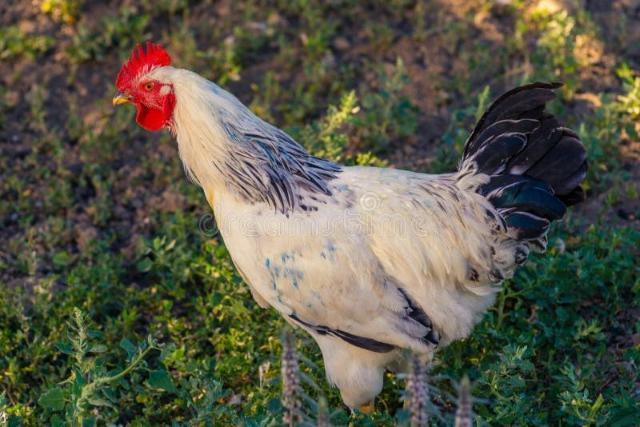Chicken: (113, 42, 589, 414)
